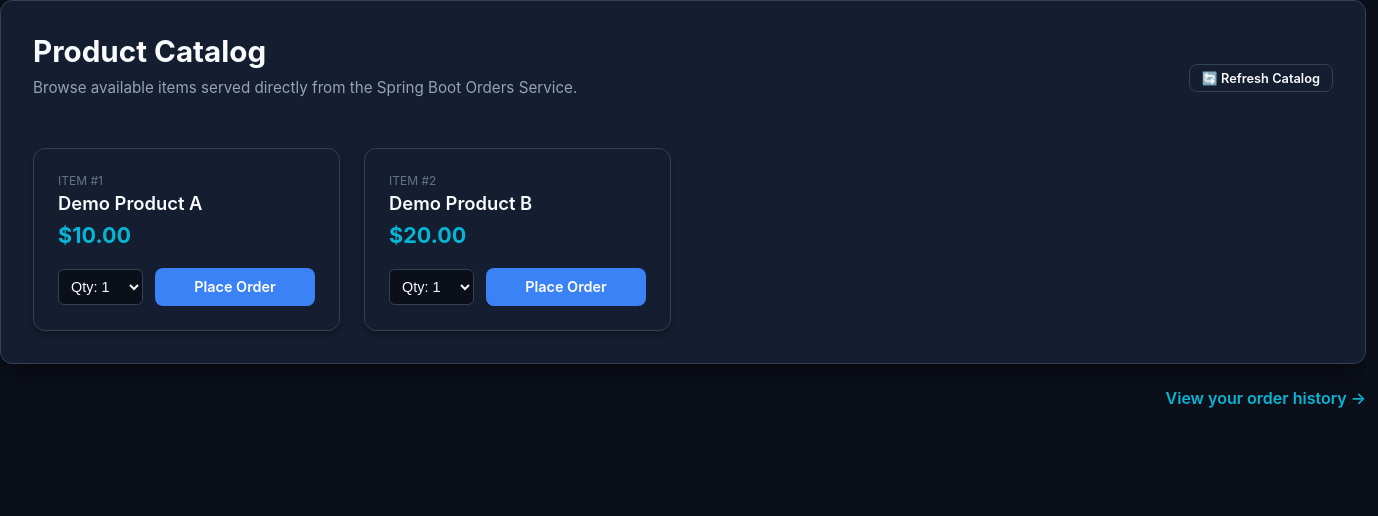
Products Page › places order when authenticated user clicks Place Order
The width and height of the screenshot is (1378, 516).
Expected: the text "Demo Product A" is shown, [58,192,202,214]
Select "Qty: 2" in the dropdown named "Select quantity for Demo Product A" at {"x": 100, "y": 287}, box [58,269,143,305]
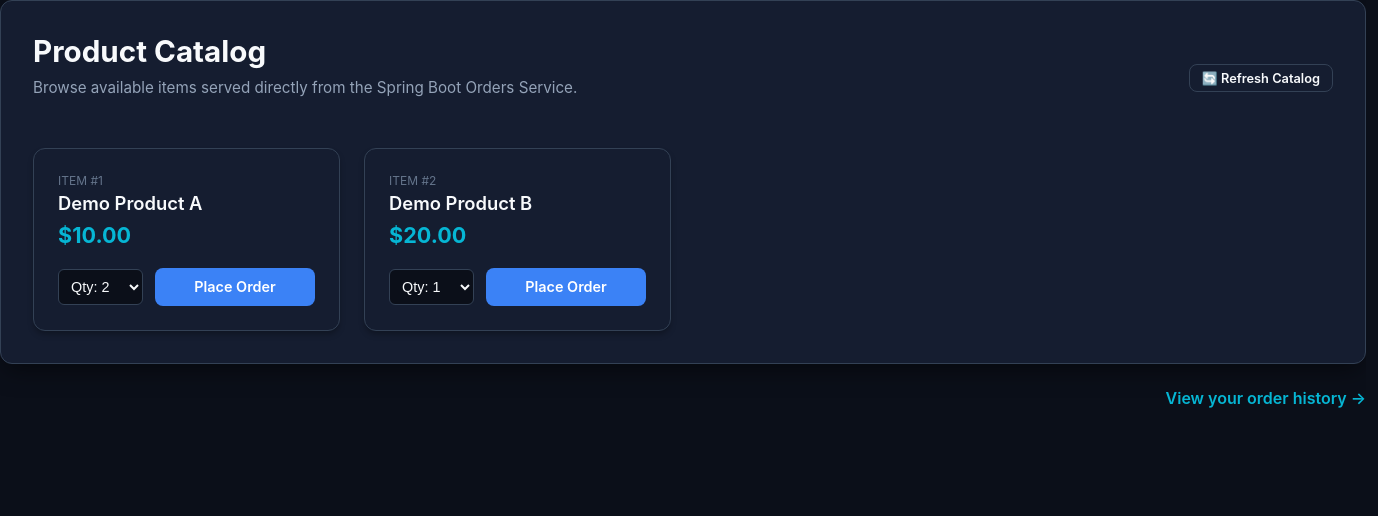
Click the button "Place Order" below "10.00" at {"x": 235, "y": 287}, box [155,268,315,306]
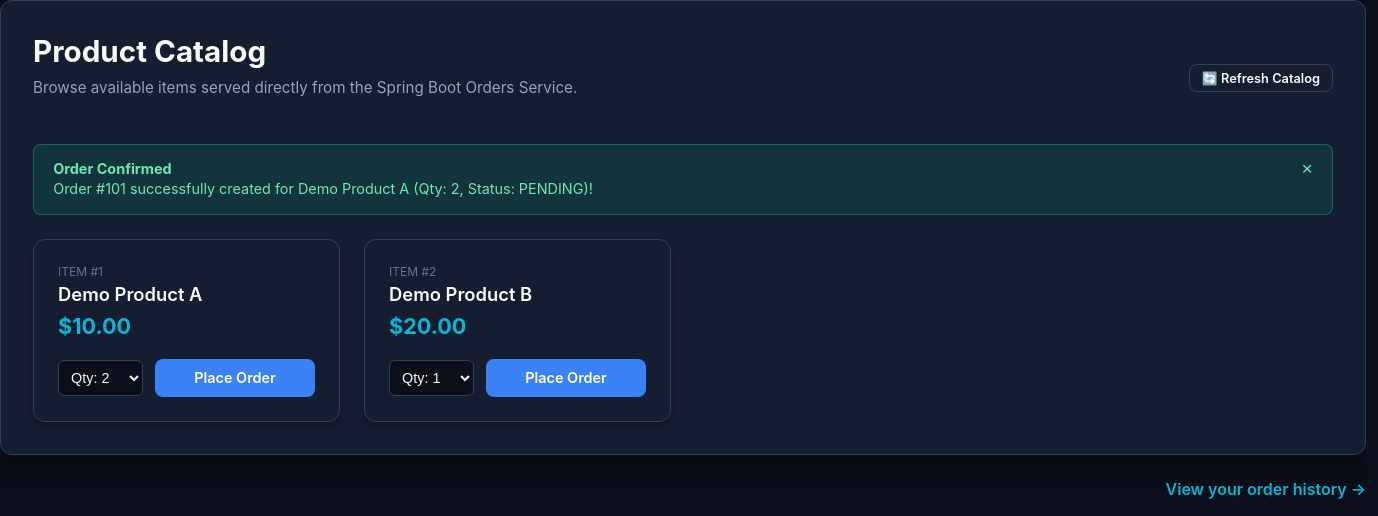
Expected: the text "Order #101 successfully created" is shown, [53,180,593,197]
